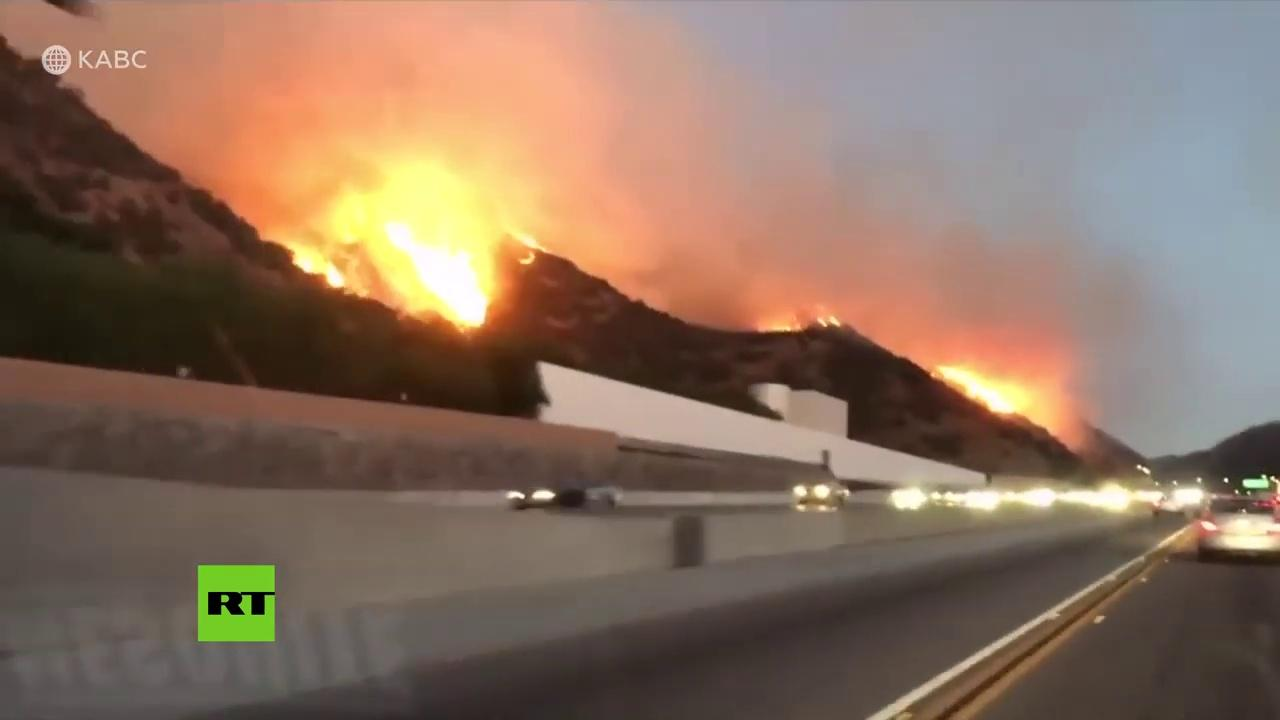Fire: (273, 150, 553, 344), (932, 365, 1034, 417), (819, 311, 844, 329), (758, 322, 795, 334)
